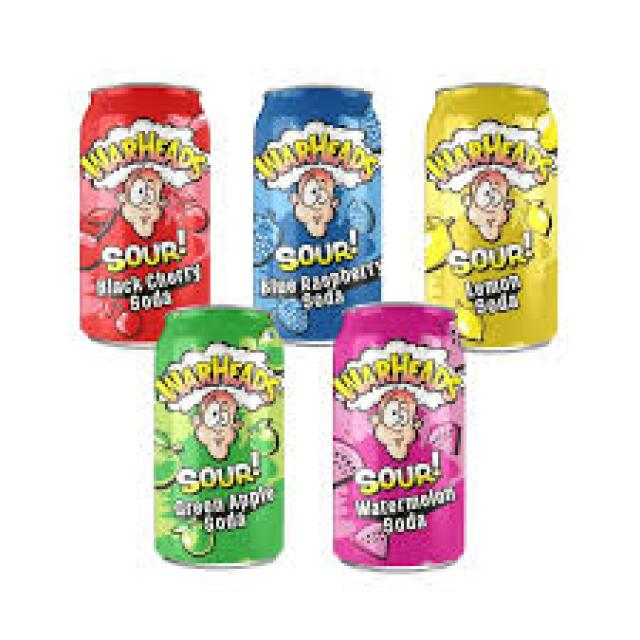Cans: (418, 80, 569, 367), (327, 299, 475, 580), (145, 302, 293, 574), (74, 77, 219, 350), (248, 80, 396, 347)
